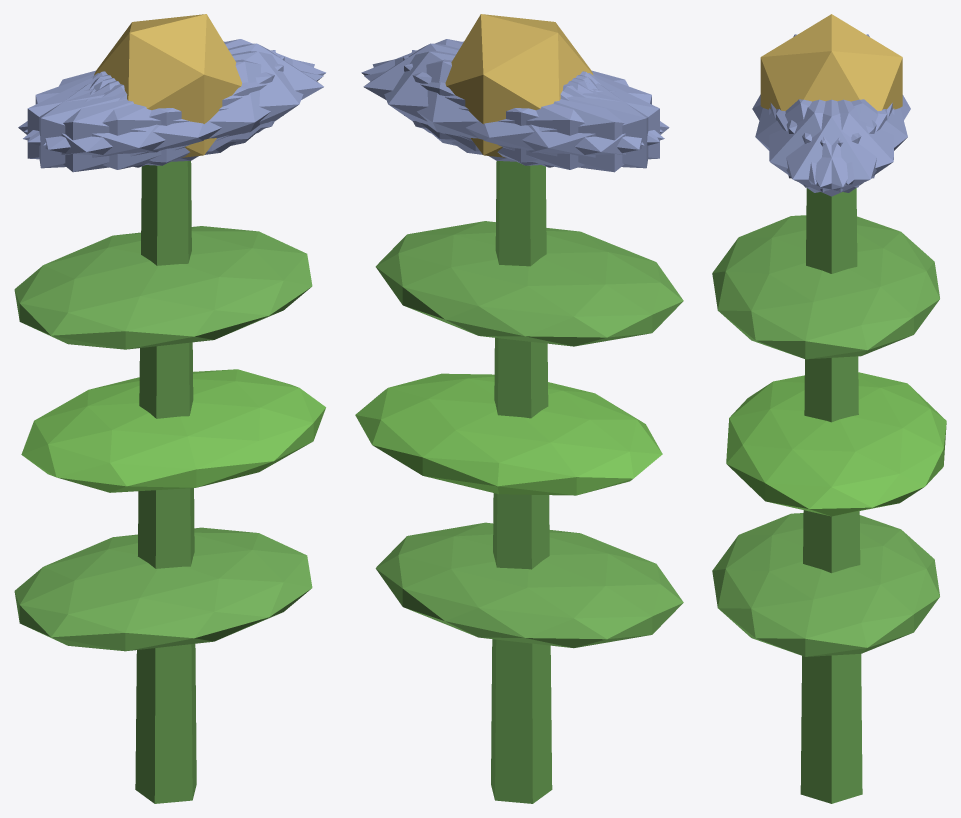
The model's file is muntingia-calabura.glb.
3 renders of one model, left to right at view 1: azimuth 30°, elevation 25°; view 2: azimuth 150°, elevation 25°; view 3: azimuth 270°, elevation 25°, orthographic.
Visible parts, largest first — view 1: leaf2, leaf0, leaf1, stem, center, petal1, petal6, petal2, petal5, petal7, petal0, petal4 (+2 smaller); view 2: leaf2, leaf1, leaf0, stem, center, petal8, petal3, petal7, petal4, petal2, petal0, petal5 (+2 smaller); view 3: leaf2, leaf1, leaf0, stem, center, petal0, petal5, petal4, petal1, petal8.
Boxes of the visible parts, x1=… form: leaf2: x1=14, y1=226, x2=312, y2=349; leaf0: x1=14, y1=527, x2=312, y2=651; leaf1: x1=21, y1=369, x2=325, y2=492; stem: x1=135, y1=161, x2=196, y2=803; center: x1=94, y1=14, x2=241, y2=157; petal1: x1=23, y1=59, x2=323, y2=169; petal6: x1=18, y1=73, x2=235, y2=172; petal2: x1=39, y1=50, x2=275, y2=168; petal5: x1=43, y1=51, x2=314, y2=162; petal7: x1=27, y1=56, x2=284, y2=165; petal0: x1=93, y1=43, x2=323, y2=151; petal4: x1=24, y1=39, x2=325, y2=142; leaf2: x1=375, y1=221, x2=683, y2=346; leaf1: x1=355, y1=373, x2=662, y2=495; leaf0: x1=375, y1=522, x2=683, y2=648; stem: x1=491, y1=161, x2=552, y2=803; center: x1=445, y1=14, x2=593, y2=157; petal8: x1=364, y1=59, x2=664, y2=169; petal3: x1=451, y1=73, x2=669, y2=172; petal7: x1=411, y1=50, x2=648, y2=168; petal4: x1=372, y1=51, x2=644, y2=162; petal2: x1=403, y1=56, x2=659, y2=165; petal0: x1=363, y1=43, x2=593, y2=151; petal5: x1=361, y1=39, x2=663, y2=142; leaf2: x1=712, y1=215, x2=939, y2=359; leaf1: x1=726, y1=372, x2=946, y2=516; leaf0: x1=712, y1=513, x2=939, y2=656; stem: x1=800, y1=188, x2=862, y2=803; center: x1=760, y1=14, x2=902, y2=111; petal0: x1=770, y1=99, x2=892, y2=196; petal5: x1=769, y1=99, x2=887, y2=192; petal4: x1=776, y1=99, x2=894, y2=192; petal1: x1=755, y1=99, x2=876, y2=184; petal8: x1=786, y1=99, x2=907, y2=184.
Bounding box in the file's own units: 0.1452 × 0.3602 × 0.101.
